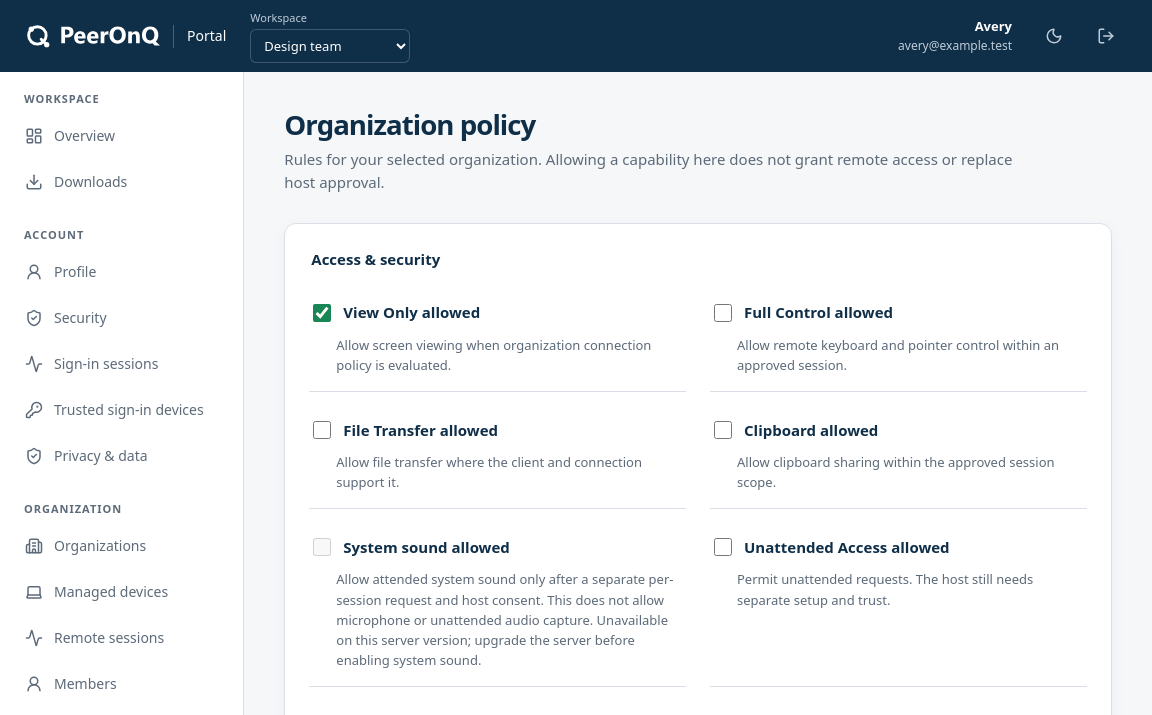
customer portal product UX › preserves every server policy default and sends exactly the edited values
Expected: the checkbox labelled "View Only allowed" is checked, left=313, top=304, right=331, bottom=322
Expected: the checkbox labelled "Full Control allowed" is not checked, left=714, top=304, right=732, bottom=322
Click the checkbox labelled "File Transfer allowed" at [322, 430], box left=313, top=421, right=331, bottom=439
(page scrolled)
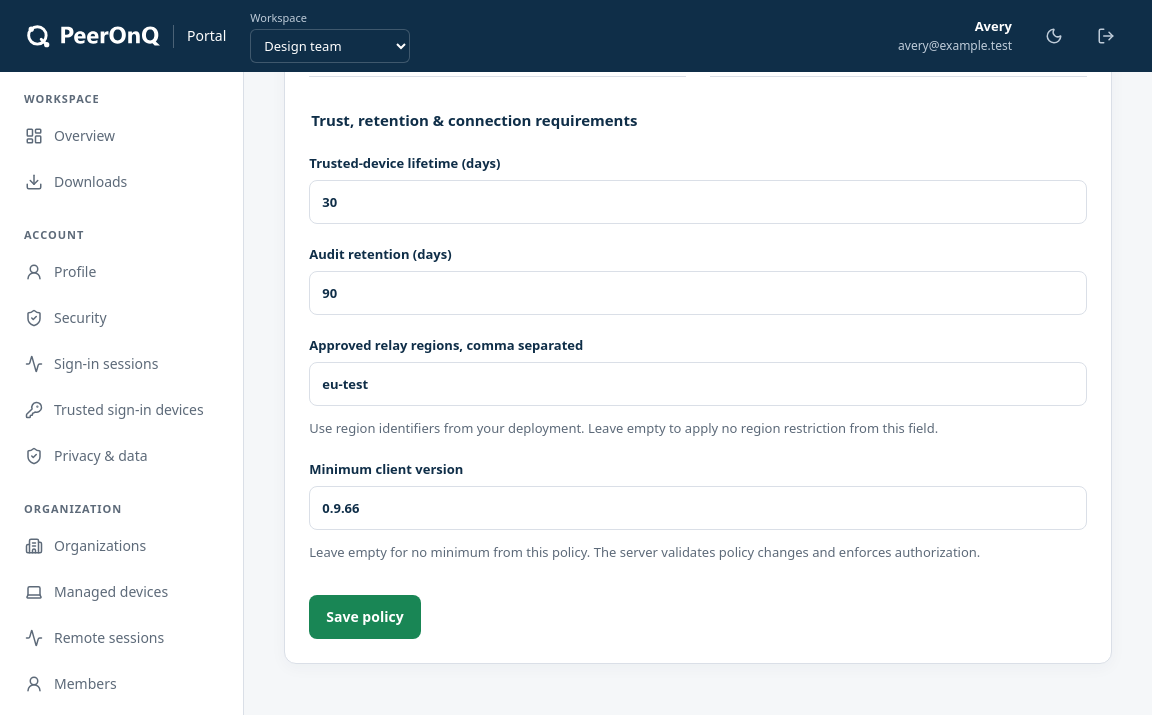
Click the button "Save policy" at [365, 617], box left=309, top=595, right=421, bottom=639
(page scrolled)
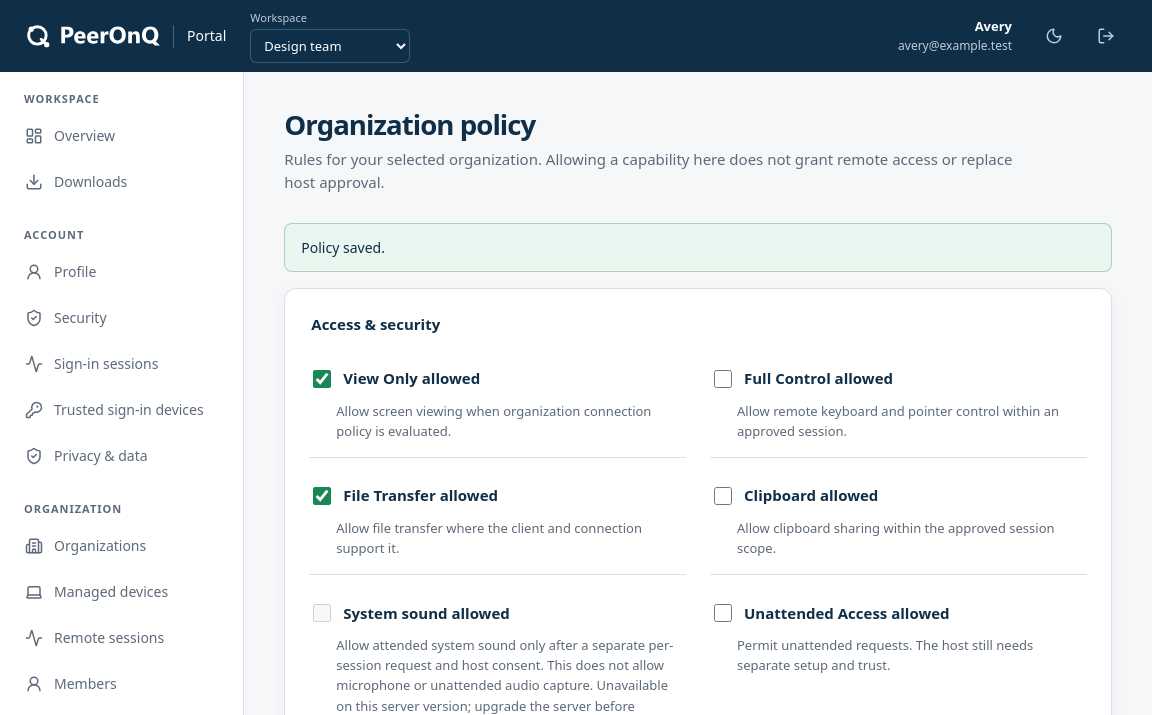
Result: the text "Policy saved." is shown at left=284, top=223, right=1112, bottom=272
